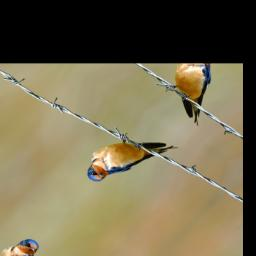Swallow: (75, 116, 179, 202)
